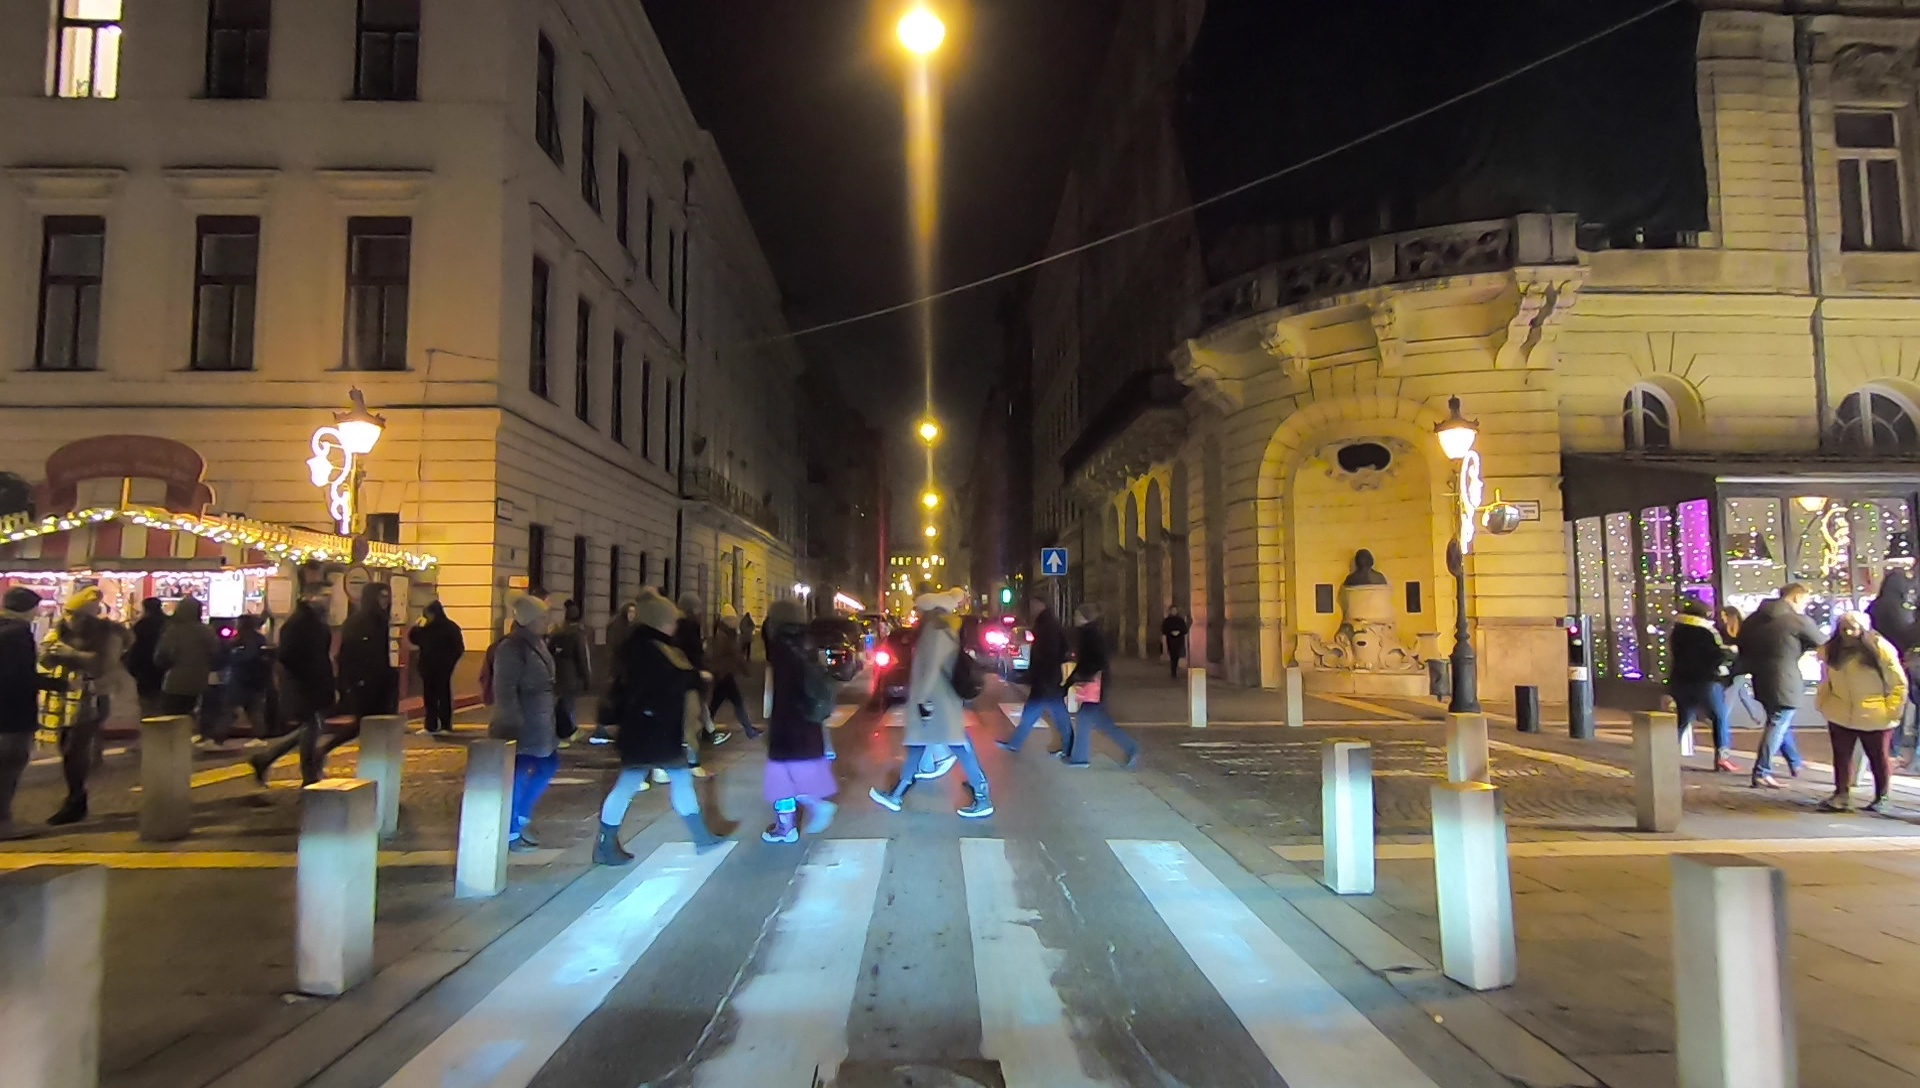person: (867, 593, 1002, 832), (608, 604, 725, 867), (752, 602, 847, 860), (480, 593, 558, 849), (1821, 608, 1904, 819), (1739, 580, 1819, 799), (52, 586, 119, 832), (251, 595, 330, 789), (1660, 591, 1738, 776), (341, 578, 404, 800), (158, 591, 225, 791), (1073, 604, 1141, 778), (1, 589, 45, 826), (126, 589, 171, 800), (1017, 597, 1069, 763), (410, 604, 467, 741), (1154, 604, 1193, 684), (739, 608, 756, 658)
